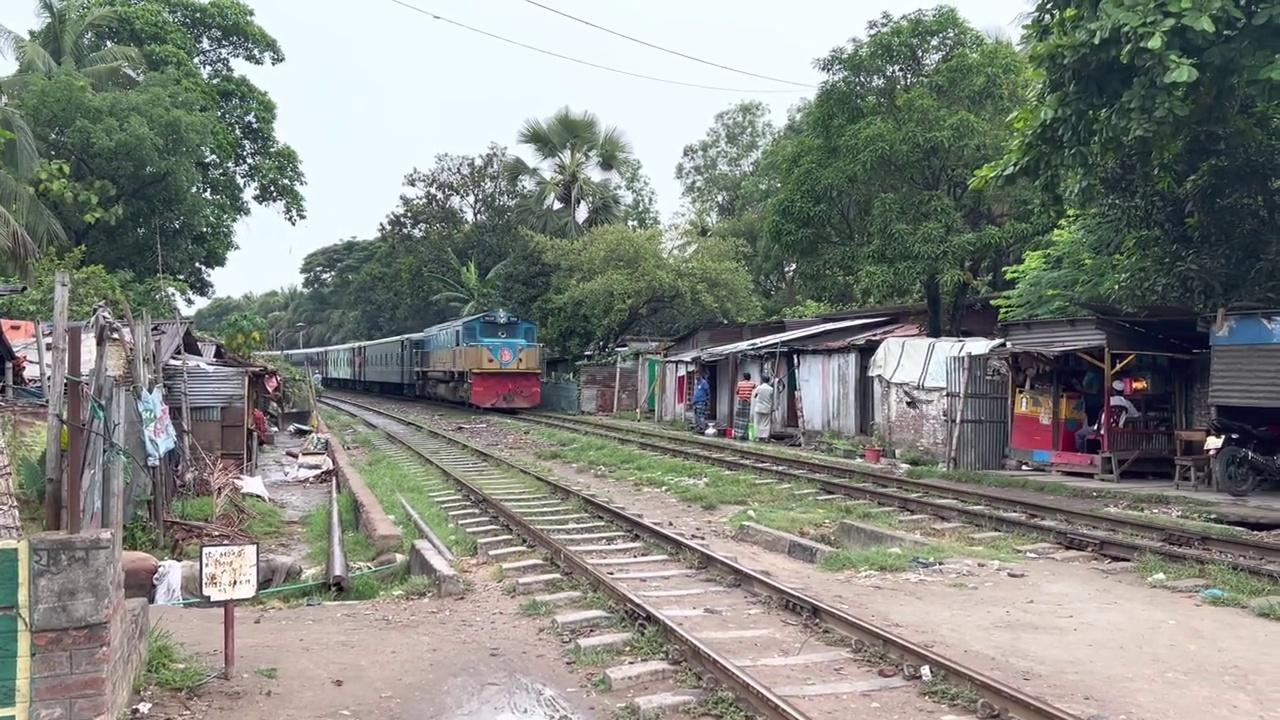Curb: (1205, 415, 1279, 496)
Fence: (749, 374, 776, 442), (690, 372, 710, 432)
Light-pole: (863, 420, 885, 464)
Motorcycle: (502, 404, 1278, 580)
Pothole: (199, 542, 259, 602)
Potted-plant: (253, 307, 544, 412)
Railroad-crossing: (743, 3, 1056, 337), (503, 104, 635, 238)
